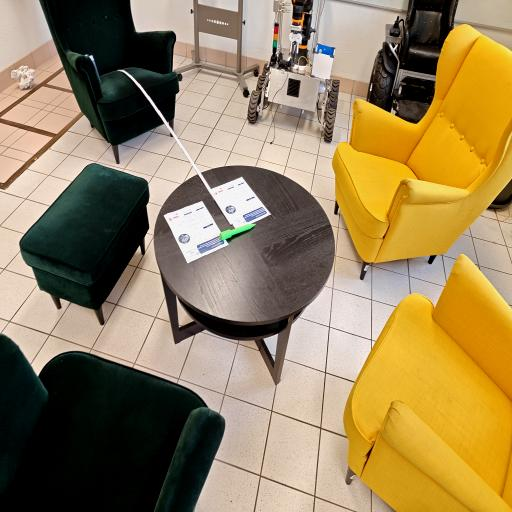Probe-Detection: (220, 224, 255, 240)
